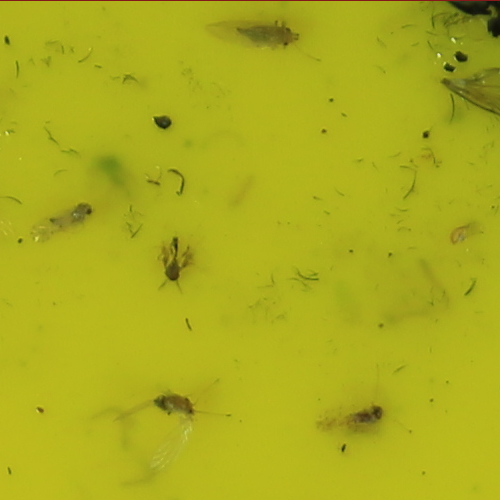psylla: (233, 19, 305, 48), (152, 388, 198, 421), (55, 198, 98, 229)
